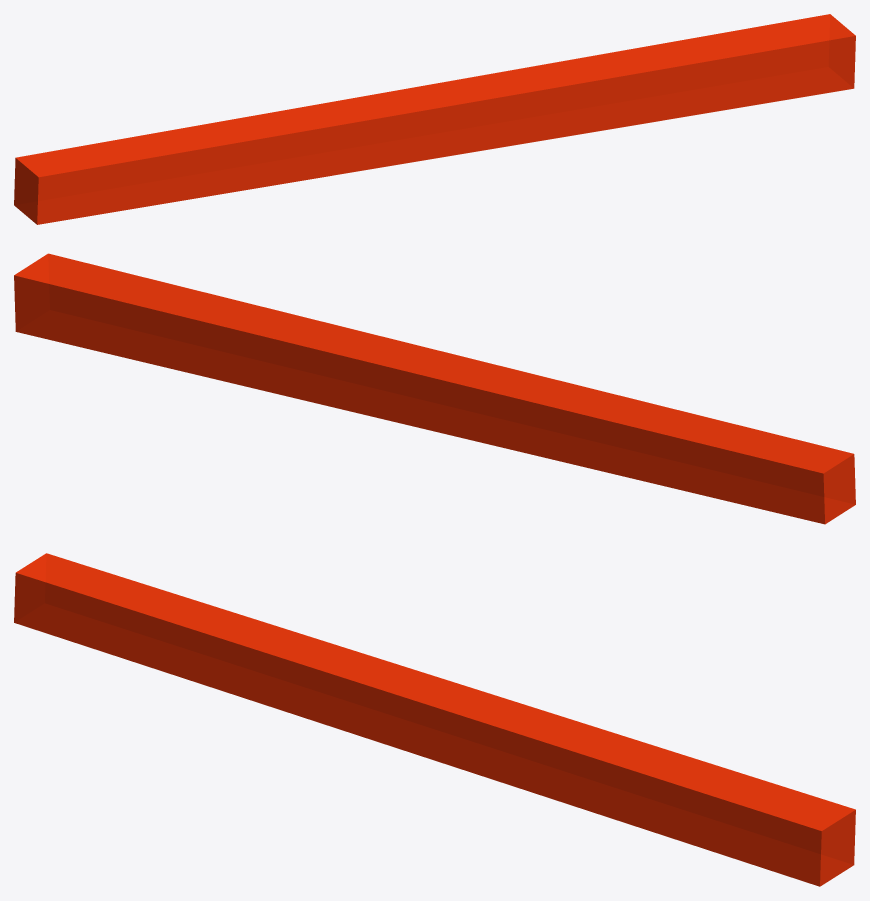
File: Event_421556567_EErechit_69.fbx
3 renders of one model, top to bottom at view 1: azimuth 30°, elevation 25°; view 2: azimuth 150°, elevation 25°; view 3: azimuth 330°, elevation 25°, orthographic. The views are drawn at different scales.
Visible parts, largest first — view 1: Model; view 2: Model; view 3: Model.
Part boxes in pixels (x1=…): Model: x1=14, y1=14, x2=855, y2=224; Model: x1=14, y1=253, x2=855, y2=524; Model: x1=14, y1=553, x2=855, y2=886.
Bounding box in the file's own units: 1.27 × 0.1224 × 0.1598.
